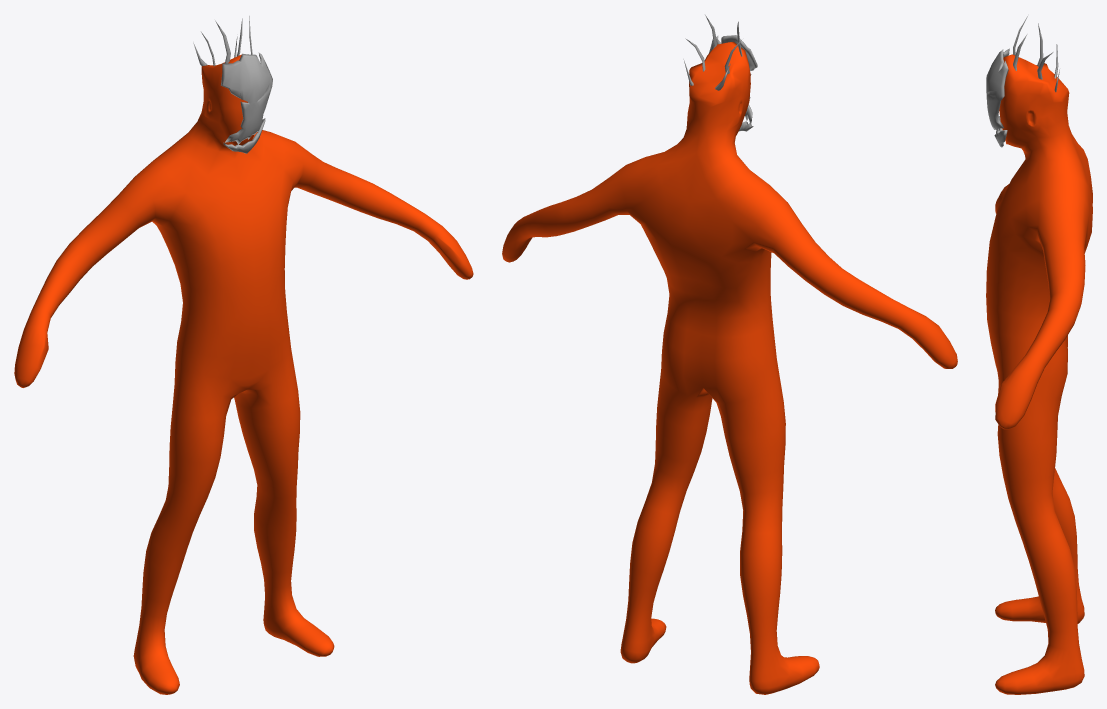
The model's file is Giant.fbx.
The picture shows the model from 3 angles, left to right: view 1: azimuth 30°, elevation 25°; view 2: azimuth 150°, elevation 25°; view 3: azimuth 270°, elevation 25°; orthographic projection. The views are drawn at different scales.
Parts seen in each view (by area): view 1: Giant, Mask02; view 2: Giant; view 3: Giant, Mask02, hair.
Boxes of the visible parts, x1=… form: Giant: x1=14, y1=54, x2=473, y2=694; Mask02: x1=221, y1=52, x2=272, y2=144; Giant: x1=502, y1=42, x2=957, y2=694; Giant: x1=986, y1=54, x2=1092, y2=694; Mask02: x1=986, y1=48, x2=1009, y2=131; hair: x1=1013, y1=16, x2=1059, y2=92.
Bounding box in the file's own units: 1304 × 1789 × 274.
